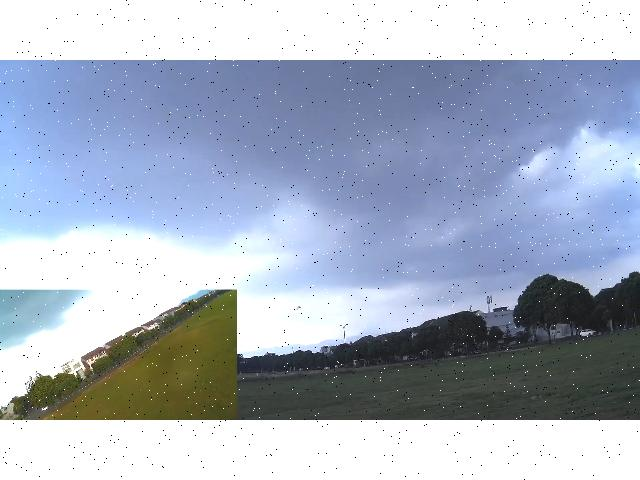Anti-Drone: (288, 304, 310, 314)
